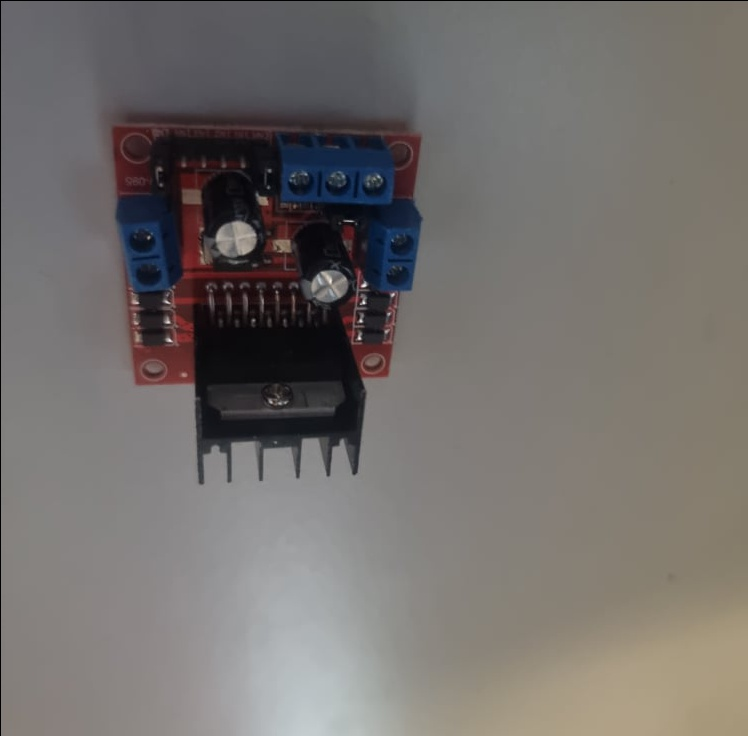MOTOR: (112, 123, 422, 485)
